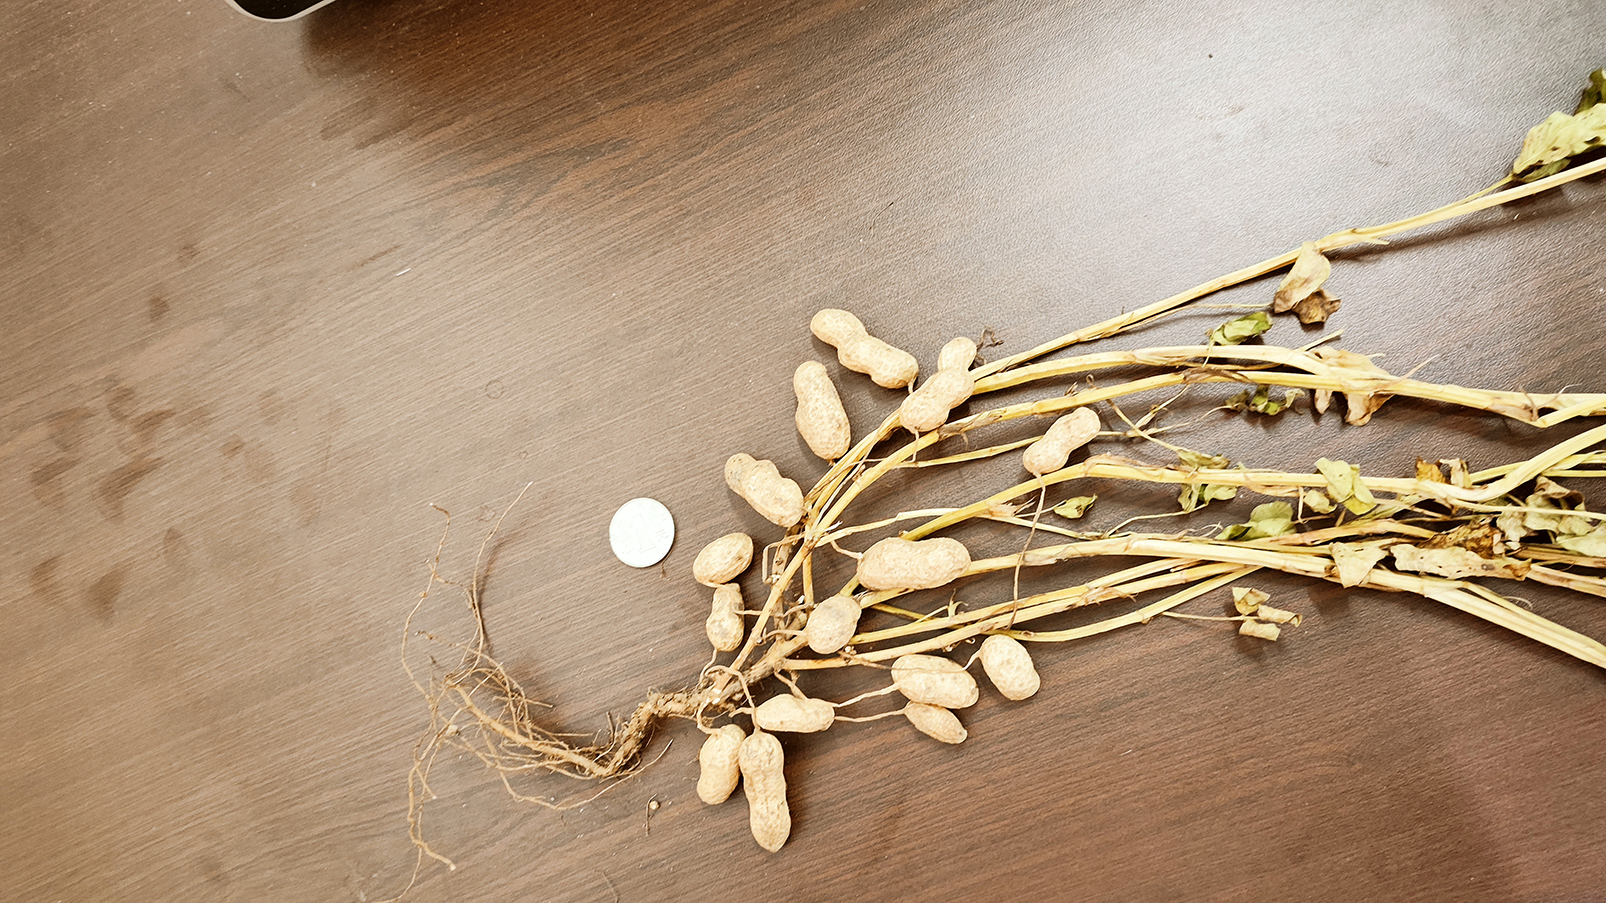h: (809, 307, 918, 386), (902, 336, 977, 431), (737, 731, 790, 853), (856, 537, 973, 589), (724, 453, 804, 526), (792, 362, 852, 459), (1024, 408, 1100, 474), (890, 654, 978, 709), (695, 716, 745, 805), (979, 635, 1041, 702), (754, 691, 837, 733), (693, 531, 754, 583), (806, 596, 861, 653), (703, 583, 745, 653), (904, 701, 967, 745)
